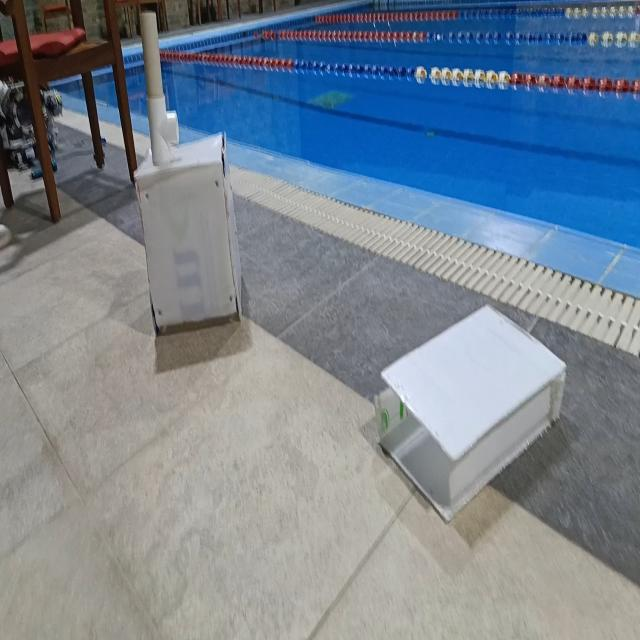Cube: (132, 129, 242, 336)
Cuboid: (373, 302, 567, 522)
